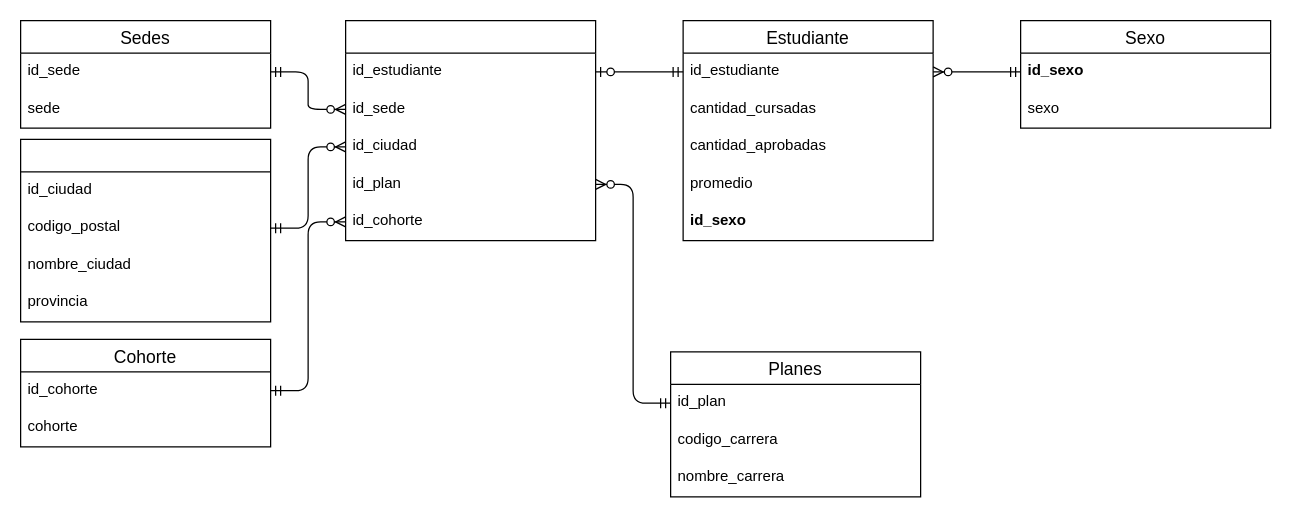
Image size: 1291x518. Some labels were removed from this diagram. The shapes that lost their labels are listed below. From the top down, each one's box as (x1, y1, x2, y2) in pixels, then its label:
(344, 19, 596, 241): Rendimiento_Academico
(19, 138, 271, 322): Ciudades
